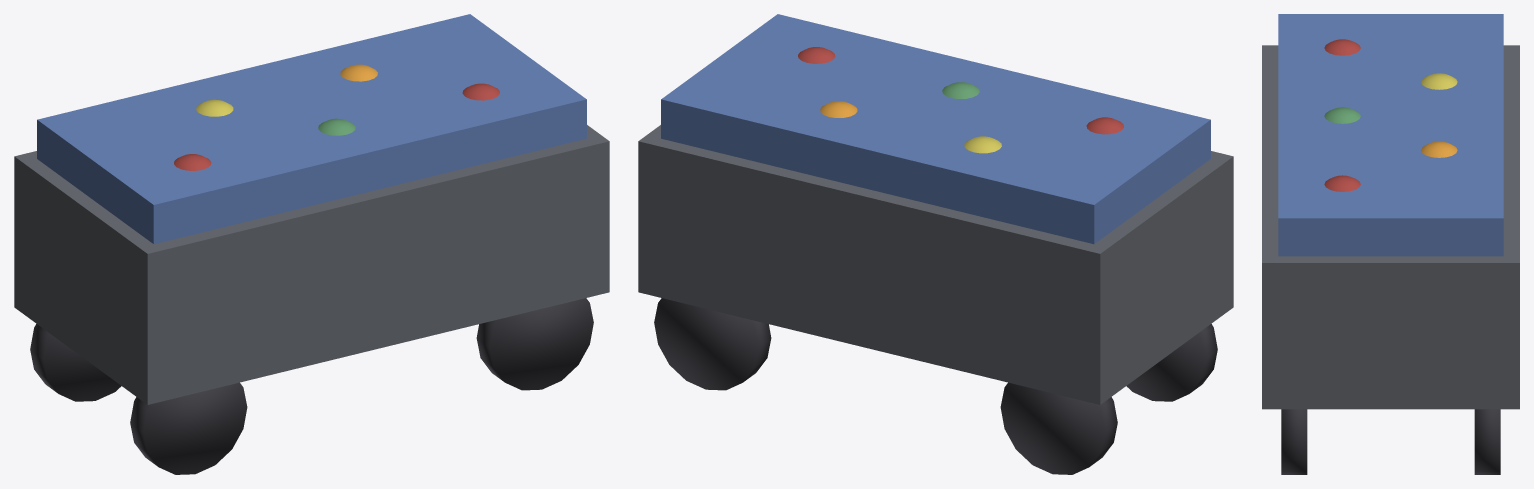
Rendered from prop_wagon.glb.
3 views of the same model, side by side, from view 1: azimuth 30°, elevation 25°; view 2: azimuth 150°, elevation 25°; view 3: azimuth 270°, elevation 25° (orthographic). The views are drawn at different scales.
Visible parts, largest first — view 1: wagon; view 2: wagon; view 3: wagon.
Boxes of the visible parts, x1,y1,x2,y2 form: wagon: (14, 14, 609, 474); wagon: (638, 14, 1233, 474); wagon: (1262, 14, 1519, 474).
Size of the model in its own units: 1.6 by 0.95 by 0.8.
